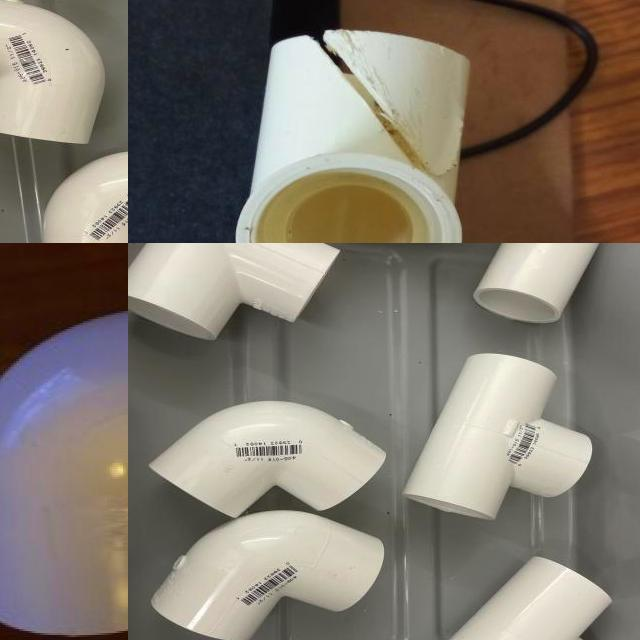Defective: (318, 30, 468, 196)
L Joint: (0, 311, 128, 640), (149, 512, 385, 640), (148, 401, 387, 519), (42, 153, 128, 243)
T Joint: (234, 30, 470, 243), (404, 354, 595, 523), (128, 243, 342, 341), (449, 556, 613, 640)
